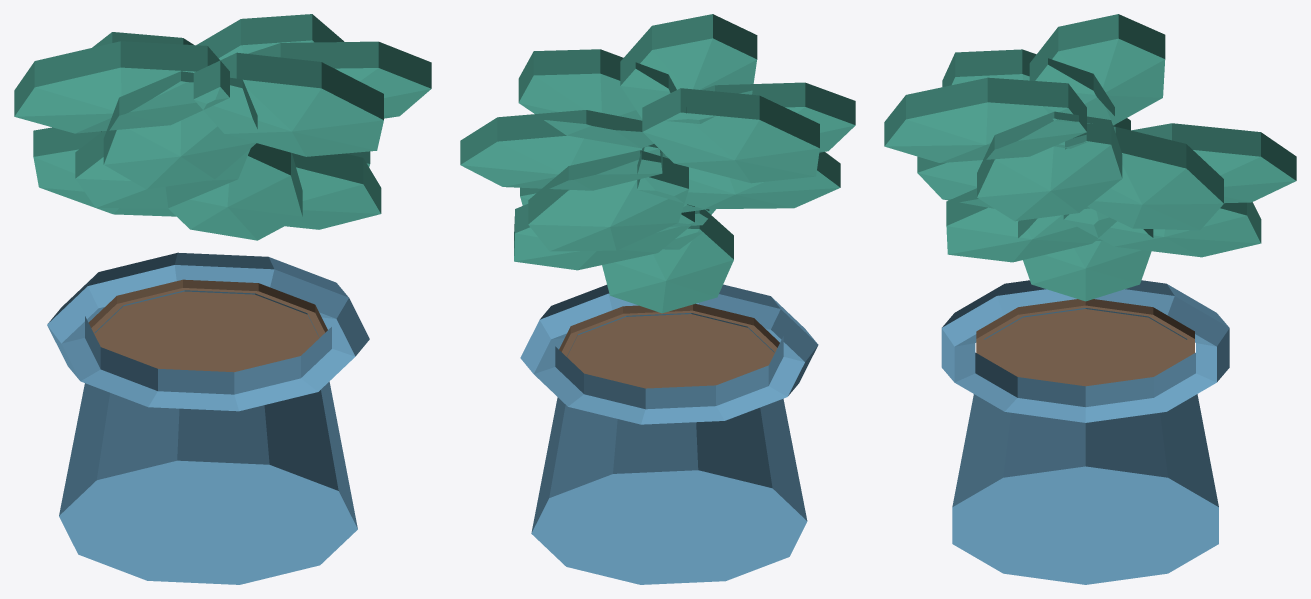
Rendered from plant_tropical.glb.
3 views of the same model, side by side, from view 1: azimuth 30°, elevation 25°; view 2: azimuth 150°, elevation 25°; view 3: azimuth 270°, elevation 25° (orthographic). The views are drawn at different scales.
Parts seen in each view (by area): view 1: plant_tropical; view 2: plant_tropical; view 3: plant_tropical.
Part boxes in pixels (x1,y1,x2,y2): plant_tropical: (14,14,431,584); plant_tropical: (460,14,855,584); plant_tropical: (884,14,1296,584).
Size of the model in its own units: 0.6941 by 0.8727 by 0.7345.
